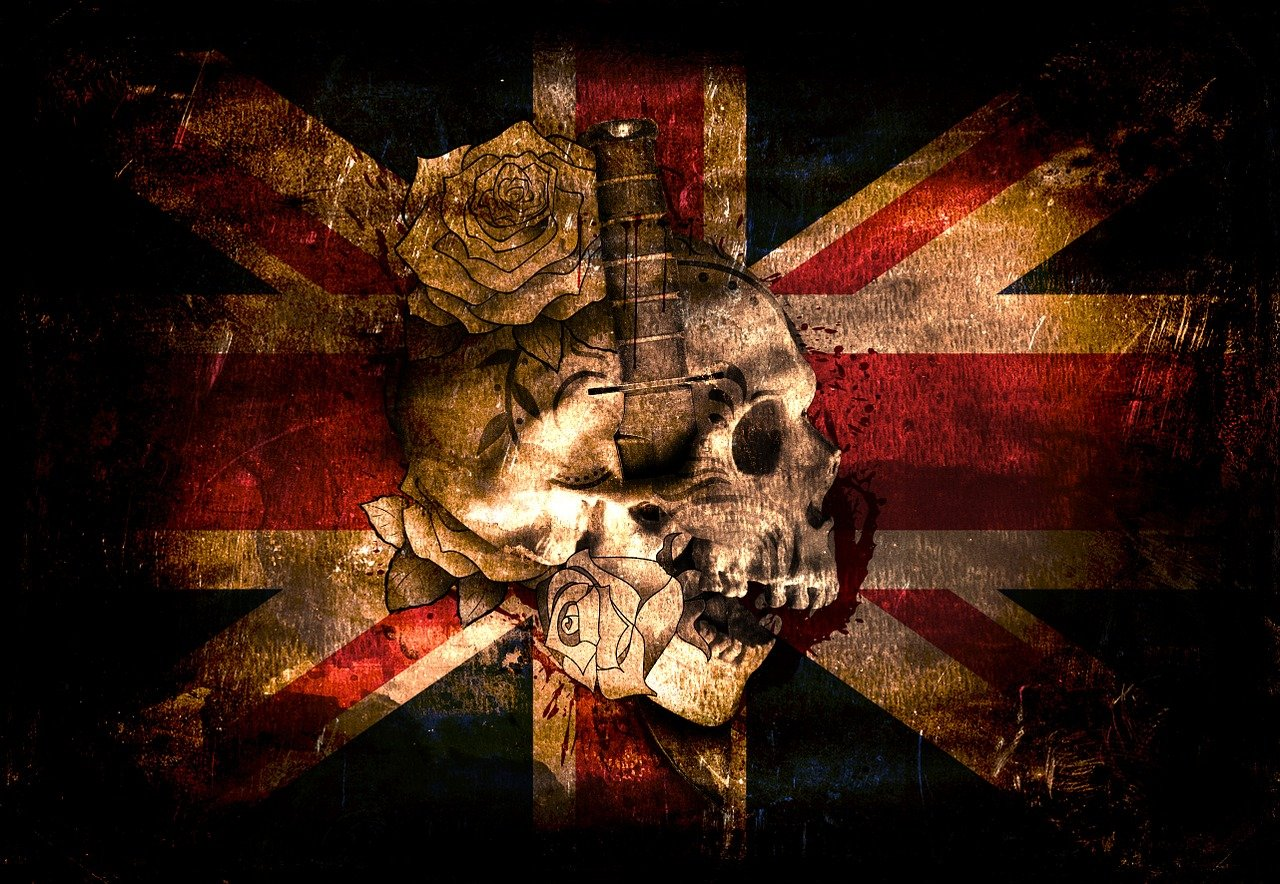knife: (571, 122, 750, 849)
